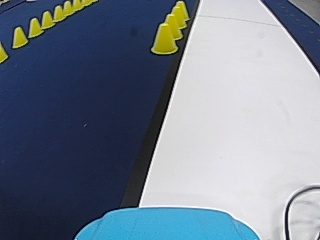cone: (150, 21, 178, 54), (162, 13, 182, 40), (170, 0, 189, 27), (11, 26, 27, 47), (28, 17, 42, 37), (40, 10, 53, 28), (1, 41, 9, 62), (52, 5, 63, 20), (62, 0, 72, 15)
